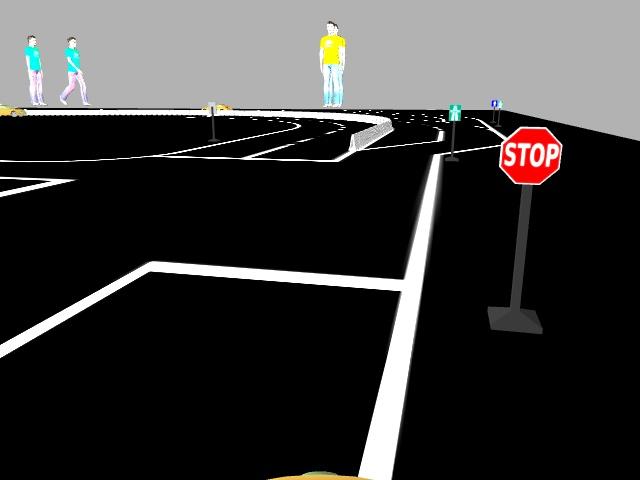Stop: (493, 124, 565, 187)
